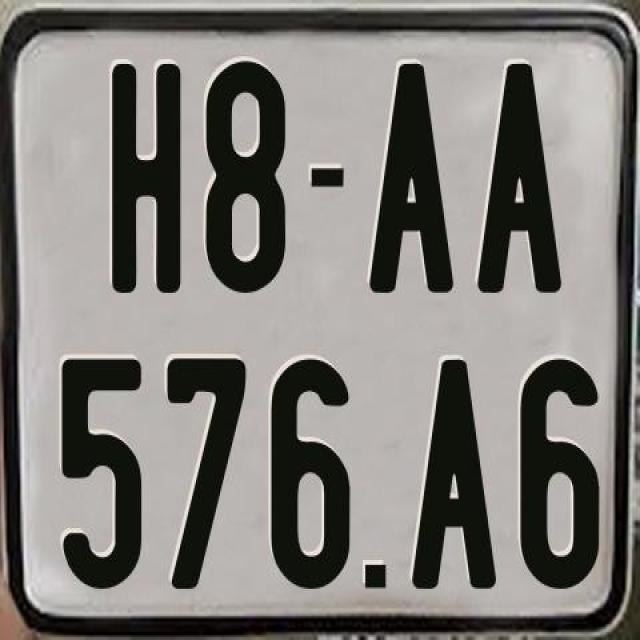5: (60, 354, 143, 586)
6: (266, 355, 354, 592), (518, 357, 602, 590)
7: (166, 358, 246, 589)
8: (204, 61, 287, 293)
A: (412, 361, 504, 594), (474, 62, 558, 296), (368, 63, 453, 294)
H: (110, 64, 182, 293)
